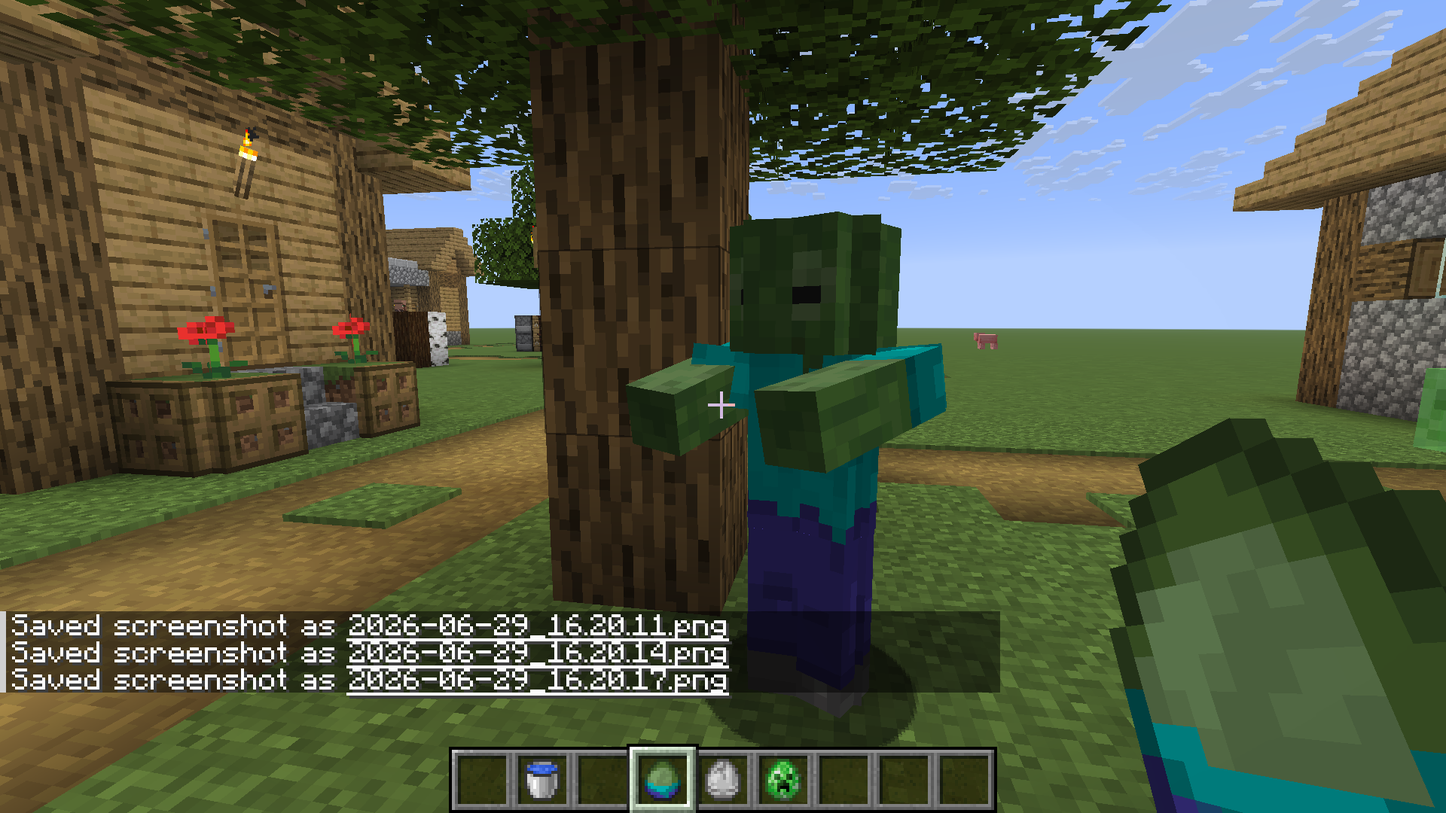zombie: (699, 220, 929, 598)
